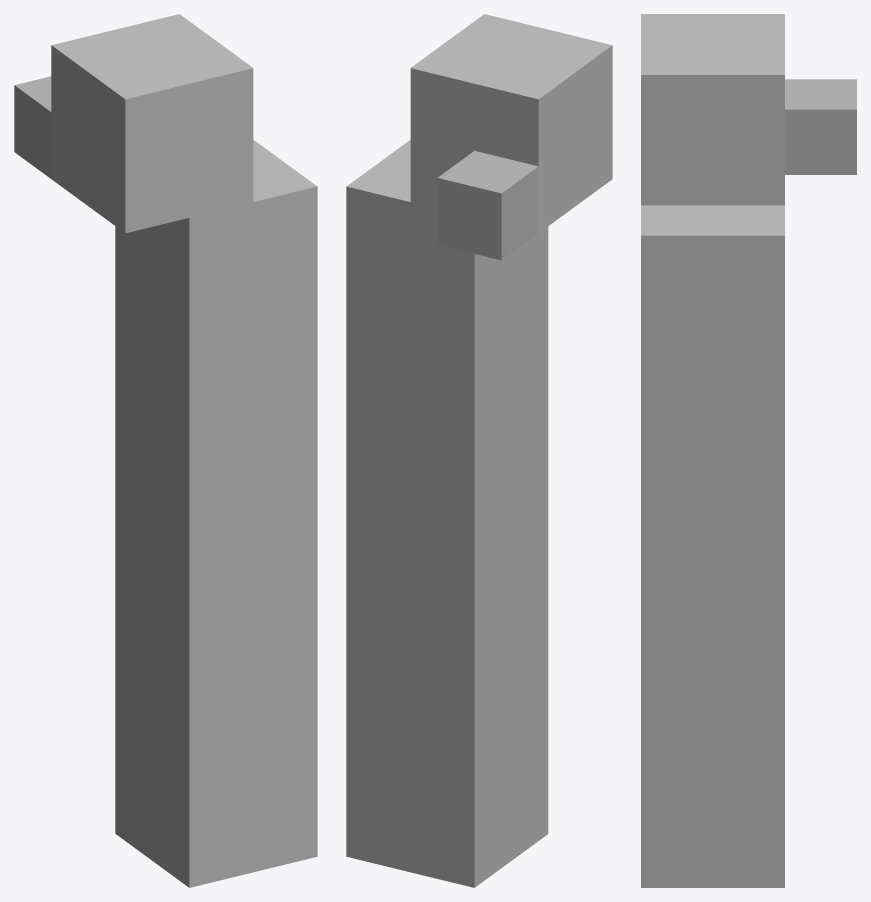
File: EnemySkeleton2-3.obj
The picture shows the model from 3 angles, left to right: view 1: azimuth 30°, elevation 25°; view 2: azimuth 150°, elevation 25°; view 3: azimuth 270°, elevation 25°; orthographic projection. The views are drawn at different scales.
Size of the model in its own units: 0.3 by 1.2 by 0.3.
Materials: 1 (1 with a texture image).
